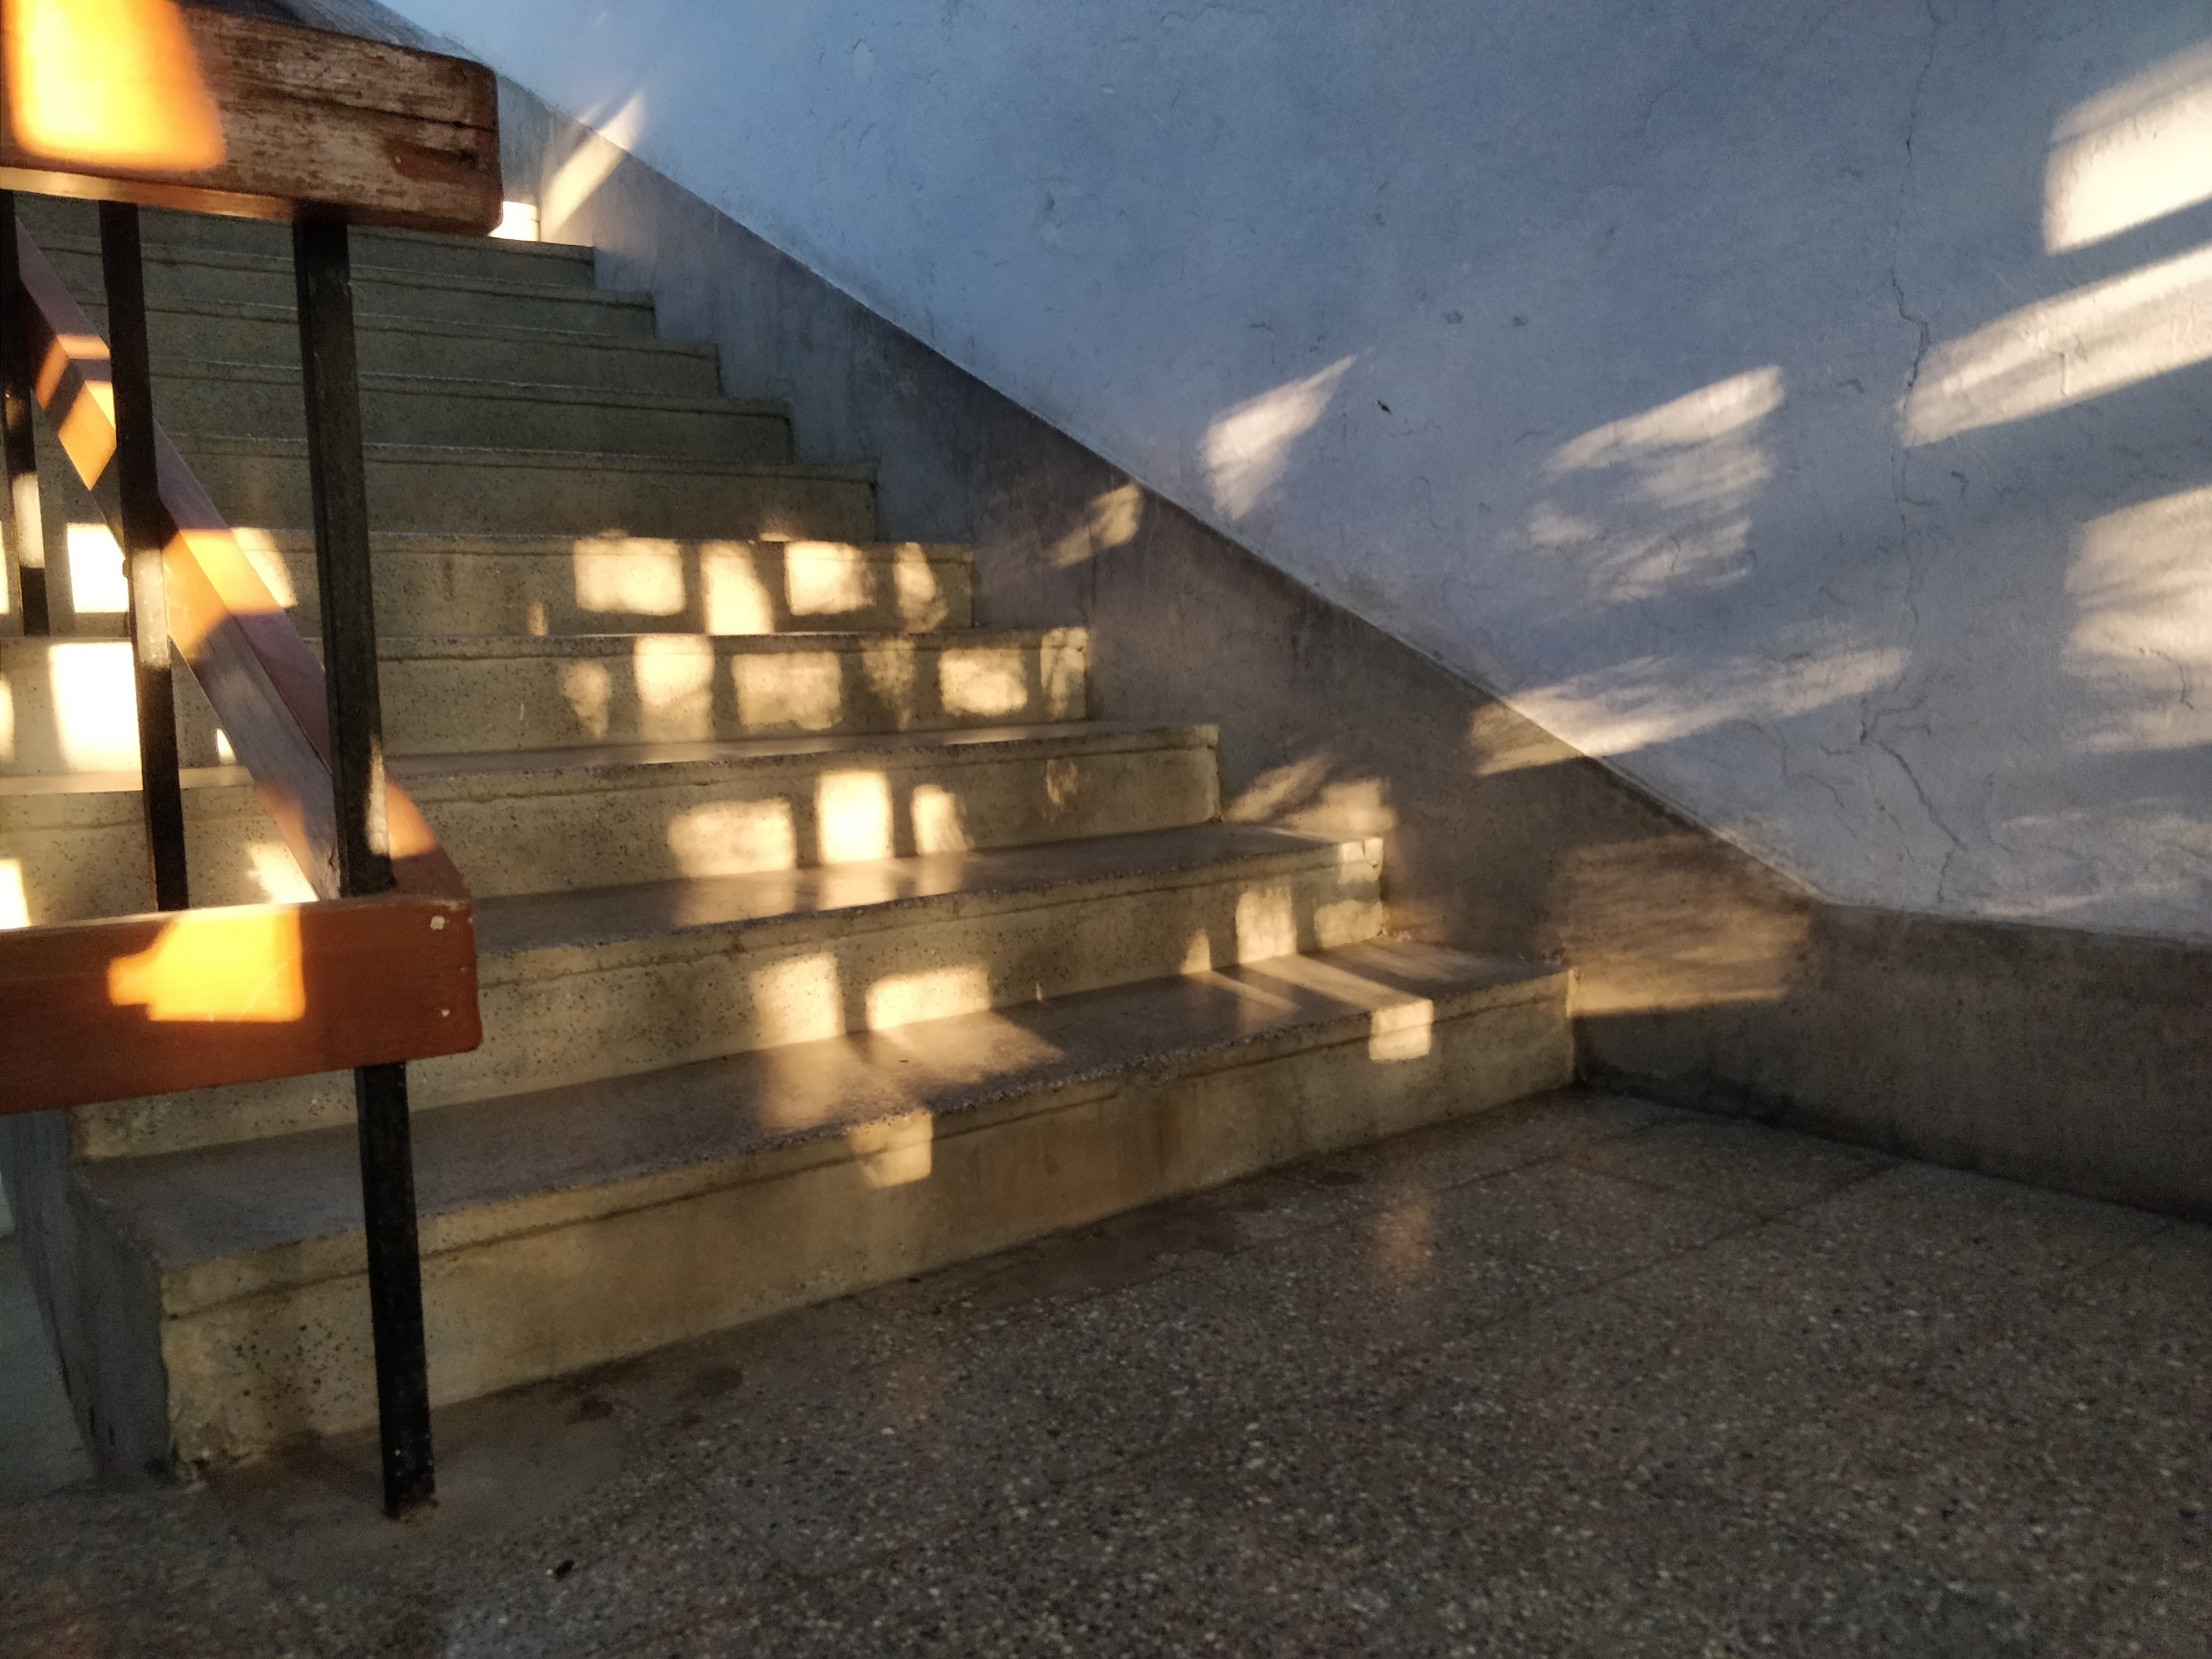stairs_up: (26, 174, 1588, 1392)
